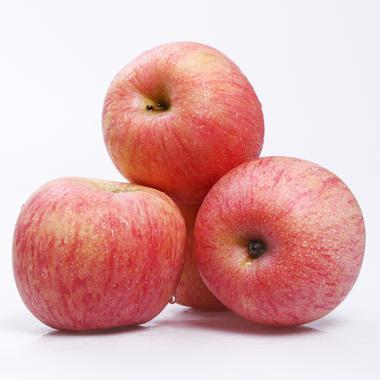apple: (192, 153, 365, 330), (100, 39, 266, 212), (13, 180, 188, 333)
